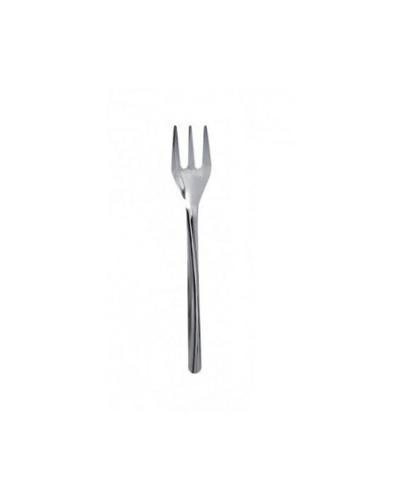Fork: (171, 124, 212, 372)
